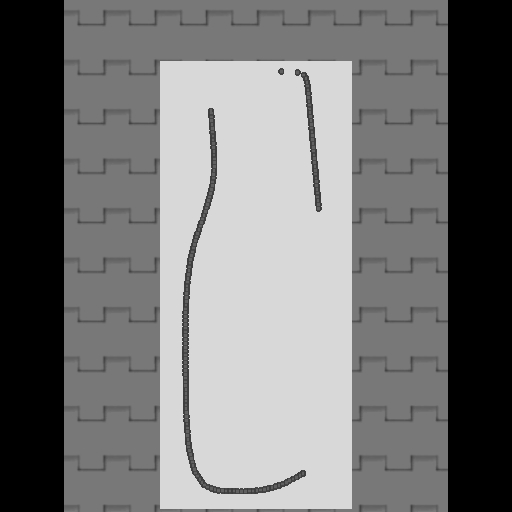Defect: (303, 210, 335, 477)
